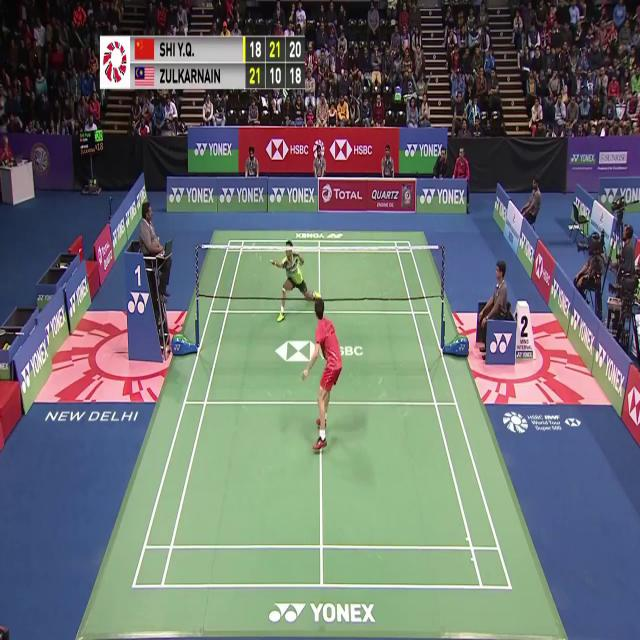Shuttlecock: (250, 239, 256, 250)
